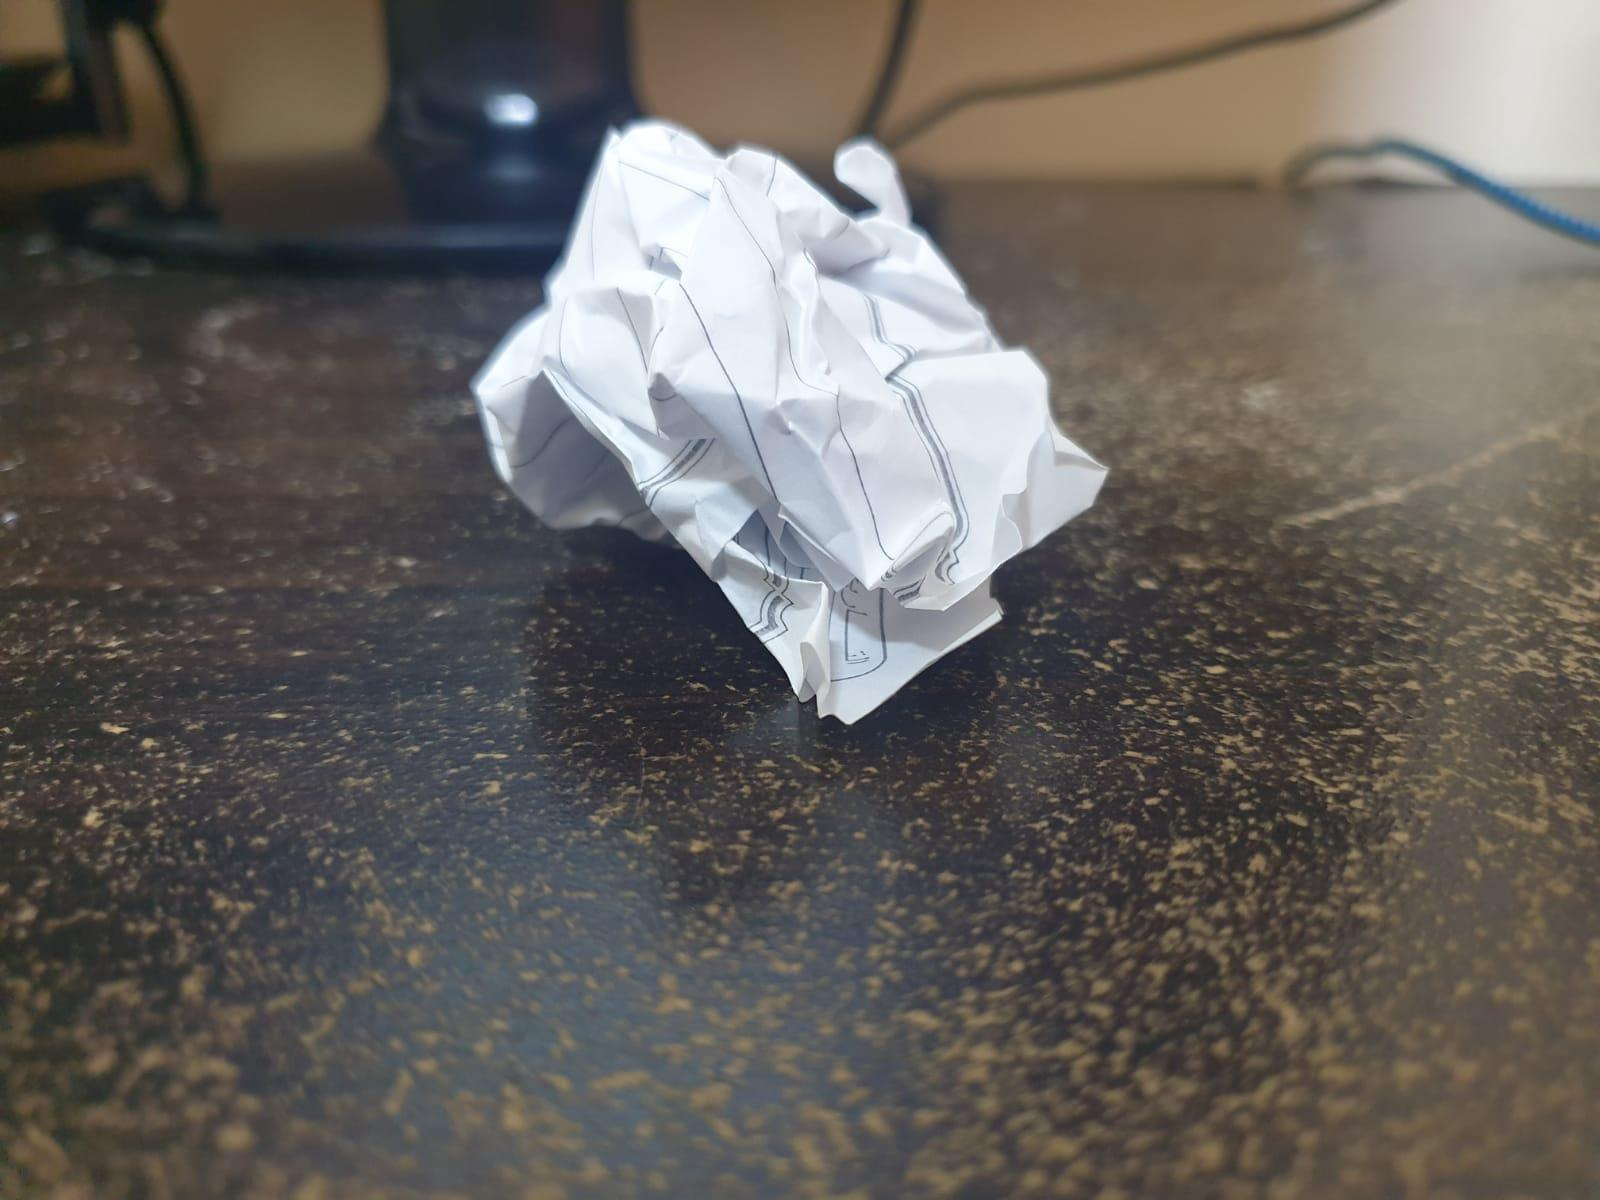Paper: (471, 103, 1119, 700)
